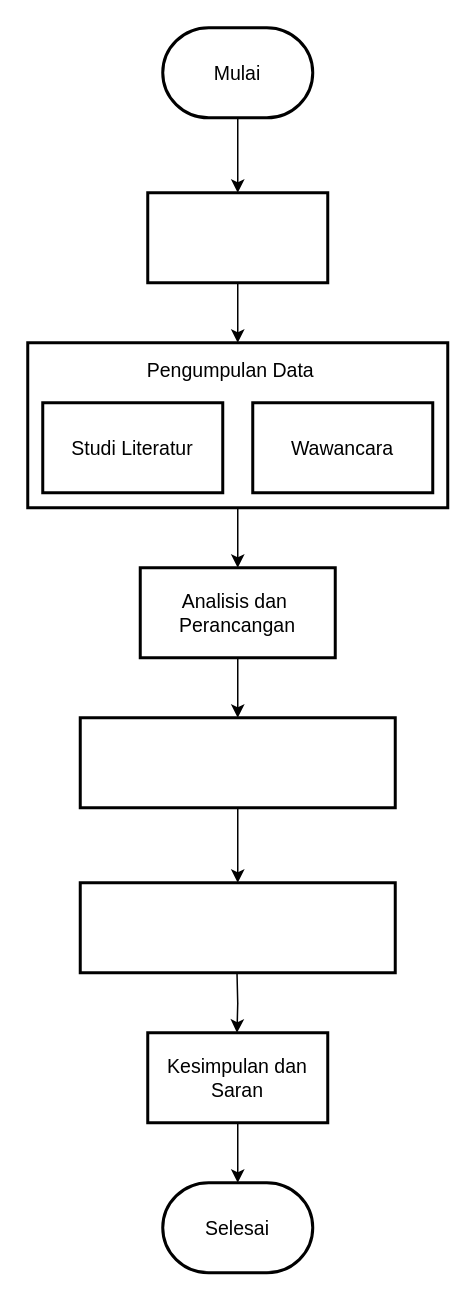
Image size: 474x1299. Some labels were removed from this diagram. Here are the shapes that lost their labels. From the top down, the centre of each, then its label:
point (237, 237): Identifikasi Masalah
point (237, 762): Implementasi
point (237, 927): Pengujian
